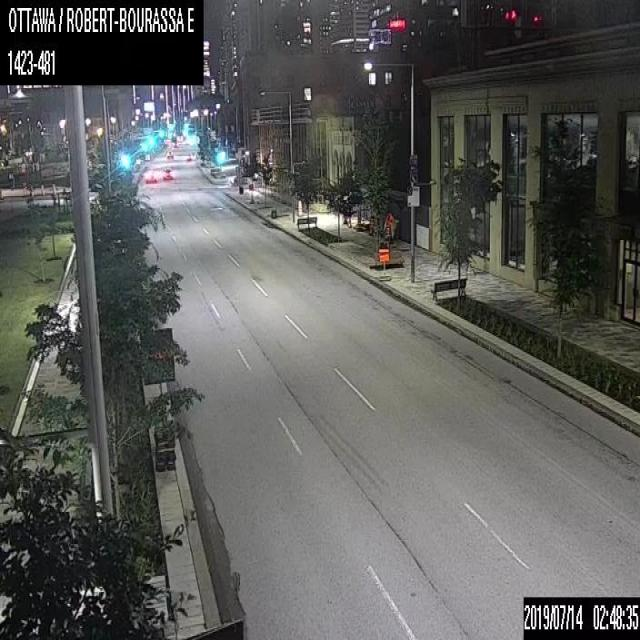construction: (138, 327, 174, 470), (377, 247, 389, 280), (384, 212, 394, 240), (296, 199, 302, 216)
vehicle: (144, 168, 156, 181), (162, 166, 172, 179), (166, 150, 173, 158), (186, 152, 192, 161)
